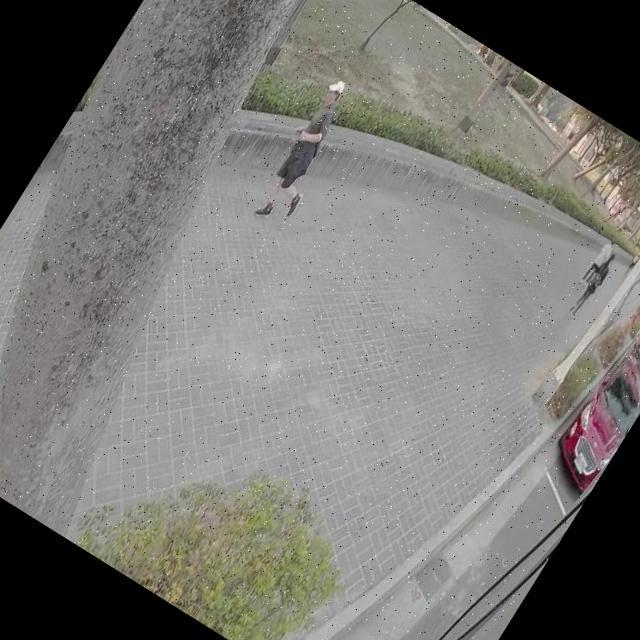person: (245, 70, 364, 226), (569, 252, 618, 320), (581, 232, 619, 282)
